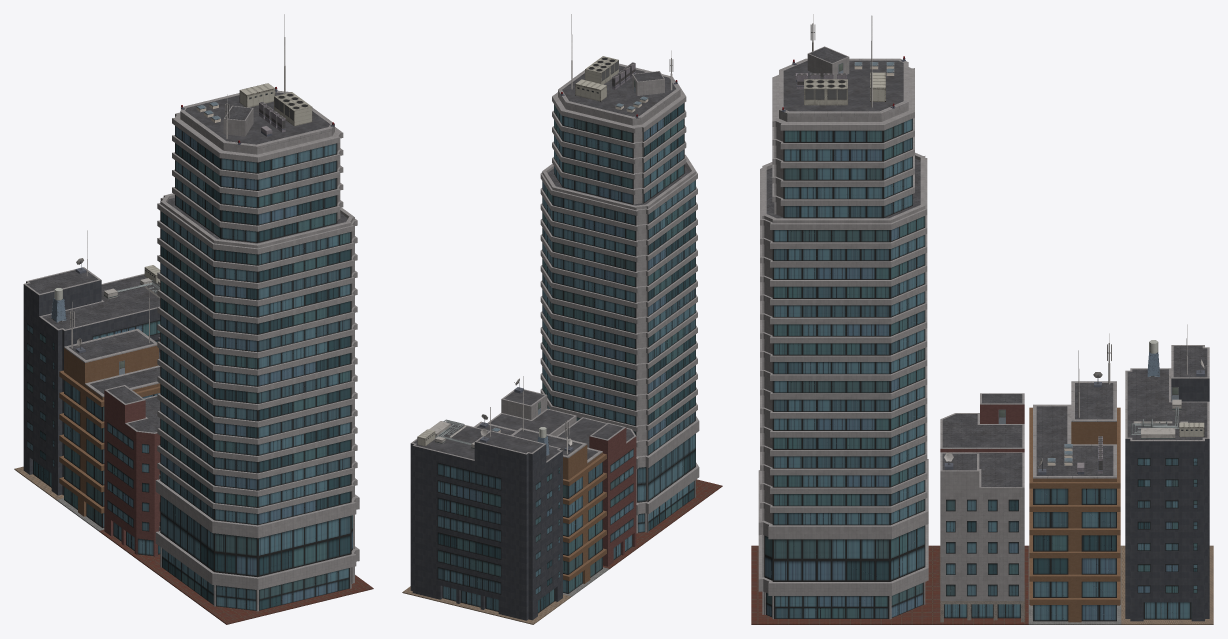
Rendered from jctlowBldSetC.fbx.
3 renders of one model, left to right at view 1: azimuth 30°, elevation 25°; view 2: azimuth 150°, elevation 25°; view 3: azimuth 270°, elevation 25°, orthographic. The views are drawn at different scales.
Parts seen in each view (by area): view 1: jctlowBldSetC; view 2: jctlowBldSetC; view 3: jctlowBldSetC.
Part boxes in pixels (x1,y1,x2,y2): jctlowBldSetC: (14, 14, 373, 624); jctlowBldSetC: (402, 14, 722, 624); jctlowBldSetC: (751, 14, 1213, 624).
Bounding box in the file's own units: 2400 × 8468 × 6000.
14 materials, 14 textured.
